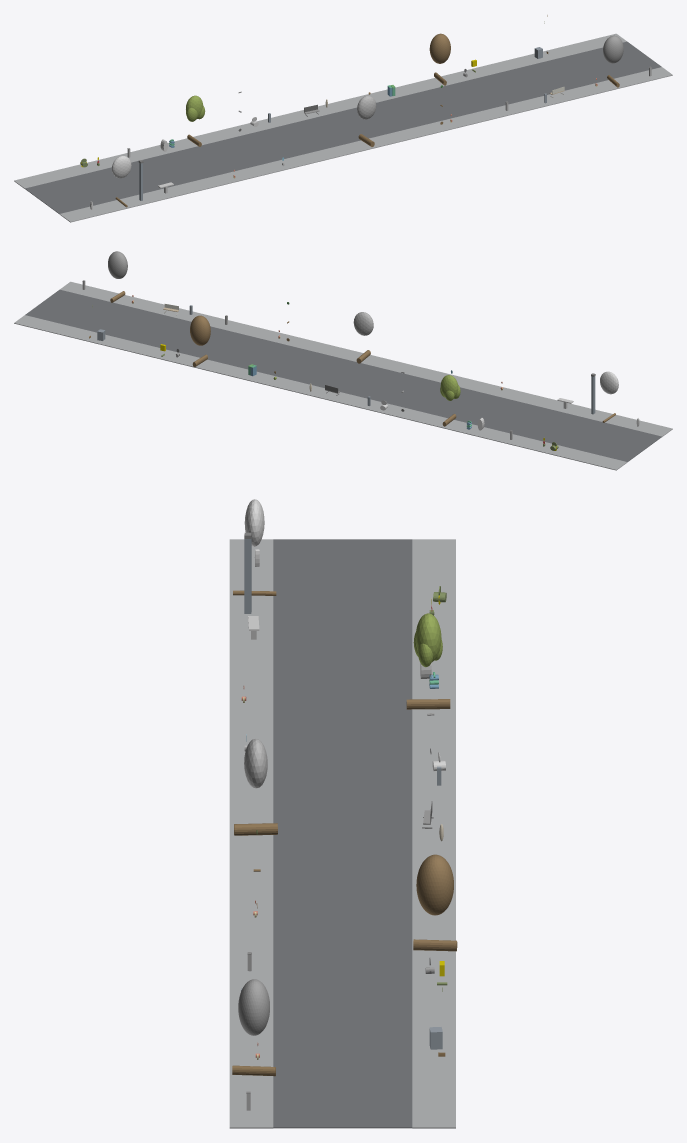
3 renders of one model, top to bottom at view 1: azimuth 30°, elevation 25°; view 2: azimuth 150°, elevation 25°; view 3: azimuth 270°, elevation 25°, orthographic. The views are drawn at different scales.
Visible parts, largest first — view 1: road_slab, sidewalk_left, sidewalk_right, inst_0015, inst_0016, inst_0013, inst_0014, inst_0012; view 2: road_slab, sidewalk_right, sidewalk_left, inst_0015, inst_0016, inst_0013, inst_0014, inst_0012; view 3: road_slab, sidewalk_left, sidewalk_right, inst_0015, inst_0016, inst_0013, inst_0014, inst_0012.
Part boxes in pixels (x1,y1,x2,y2): road_slab: [25, 41, 661, 213]; sidewalk_left: [59, 67, 672, 222]; sidewalk_right: [14, 33, 626, 188]; inst_0015: [429, 33, 450, 85]; inst_0016: [603, 35, 623, 87]; inst_0013: [186, 95, 205, 146]; inst_0014: [357, 95, 376, 146]; inst_0012: [111, 156, 131, 207]; road_slab: [25, 289, 661, 462]; sidewalk_right: [14, 315, 627, 470]; sidewalk_left: [60, 281, 672, 436]; inst_0015: [190, 315, 210, 367]; inst_0016: [108, 251, 127, 302]; inst_0013: [440, 375, 460, 426]; inst_0014: [353, 312, 373, 363]; inst_0012: [600, 371, 618, 422]; road_slab: [273, 539, 412, 1128]; sidewalk_left: [229, 539, 273, 1128]; sidewalk_right: [412, 539, 455, 1128]; inst_0015: [413, 854, 457, 951]; inst_0016: [232, 979, 275, 1076]; inst_0013: [406, 613, 450, 709]; inst_0014: [234, 738, 277, 835]; inst_0012: [233, 499, 276, 595].
Bounding box in the file's own units: 80 × 6.08 × 13.08.
